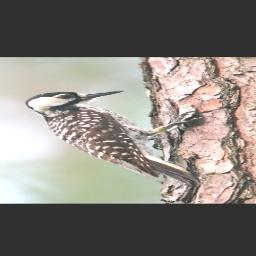Woodpecker: (24, 90, 212, 187)
